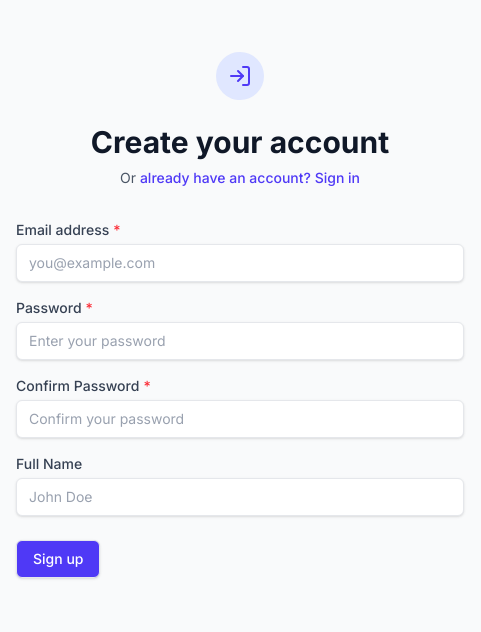
Test: RegisterPage › Validation Tests › displays error for invalid email format
In the field labelled "Email address*": (240, 263) [16, 244, 464, 282], type "invalid-email"
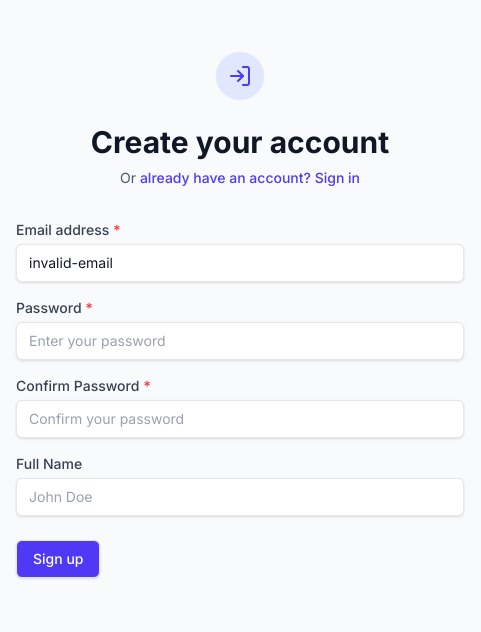
Click the button "Sign up": (58, 559) [16, 540, 100, 578]
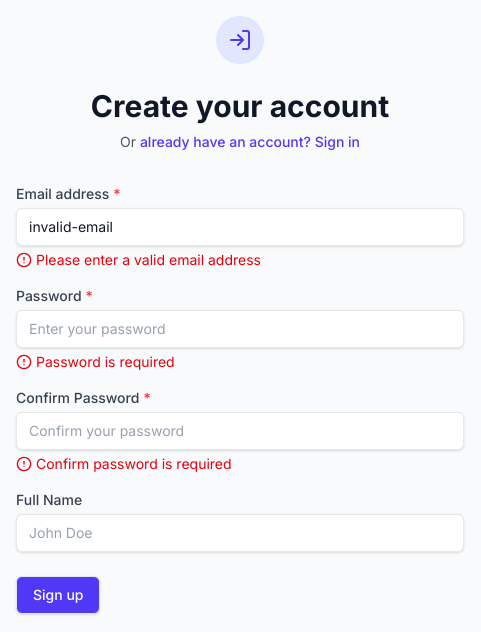
Result: the text "Please enter a valid email address" is shown at [36, 250, 261, 270]
